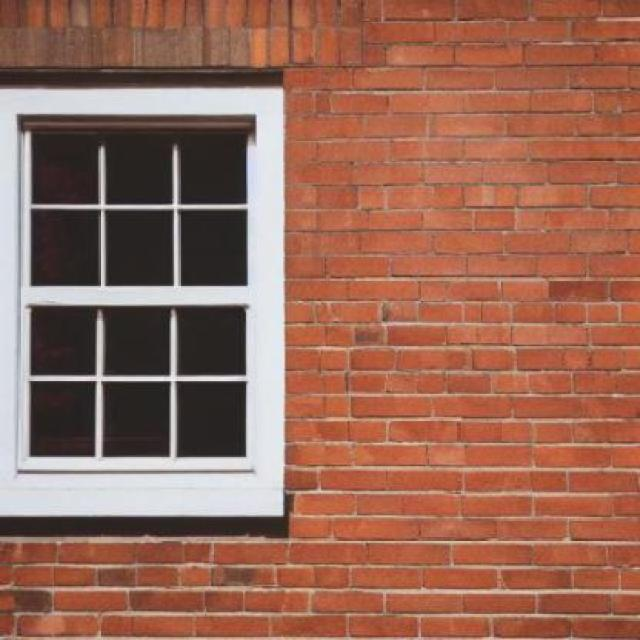window: (2, 69, 284, 536)
